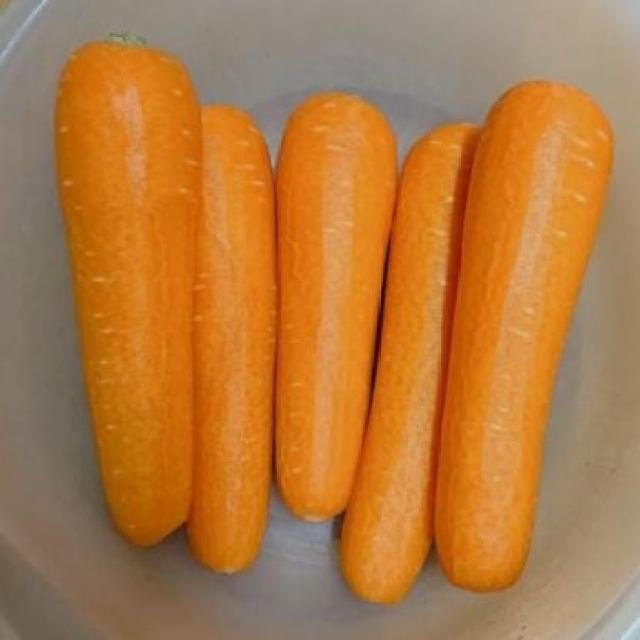carrot: (436, 75, 616, 594), (53, 26, 204, 572), (338, 120, 470, 609), (272, 89, 398, 528), (185, 102, 273, 596)
